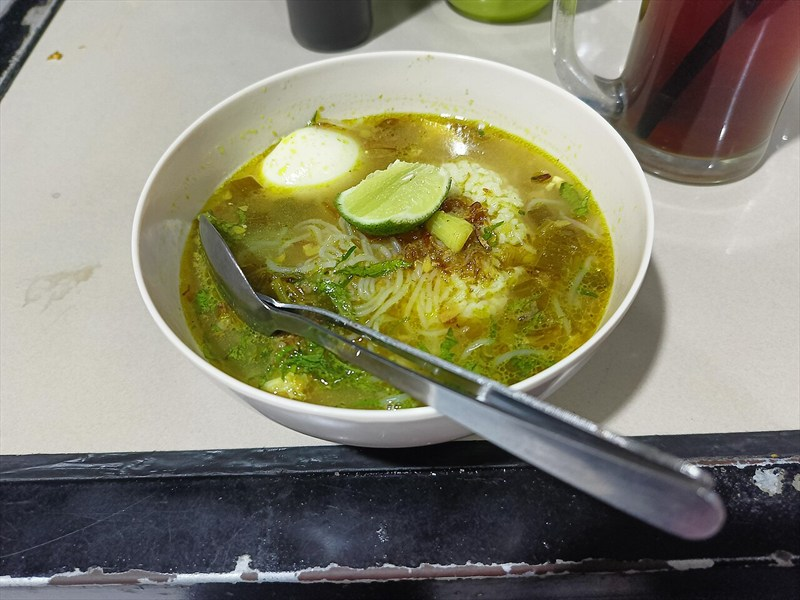Soto Ayam: (177, 99, 643, 481)
